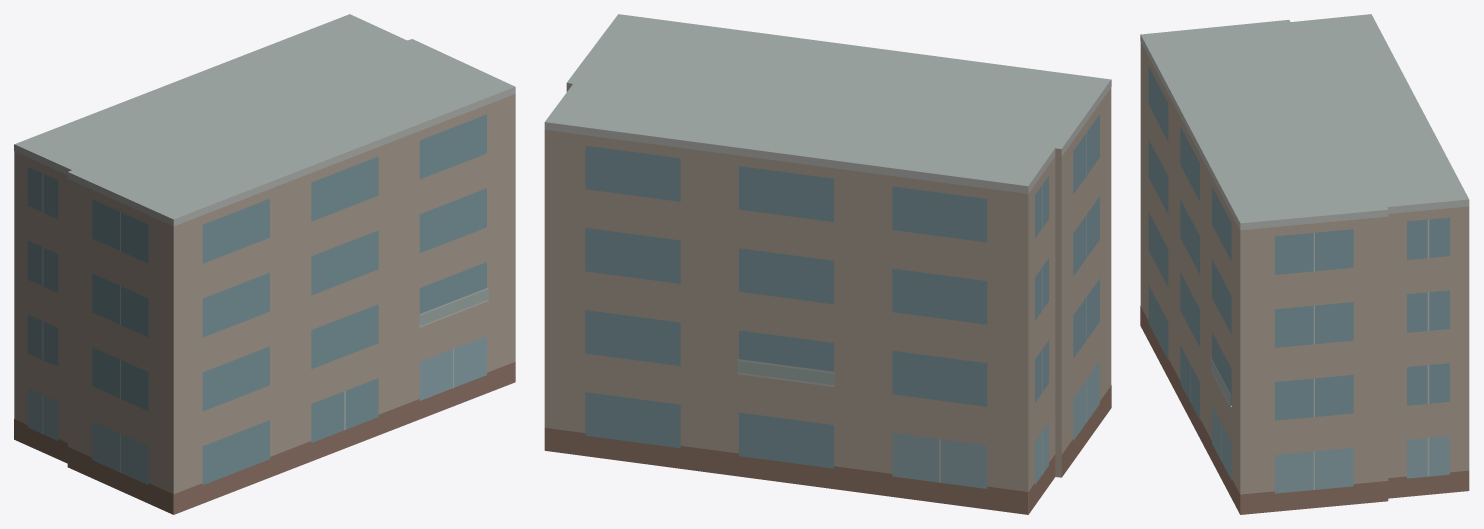
Rendered from survey-upis-32799914.glb.
3 renders of one model, left to right at view 1: azimuth 30°, elevation 25°; view 2: azimuth 150°, elevation 25°; view 3: azimuth 270°, elevation 25°, orthographic. The views are drawn at different scales.
Parts seen in each view (by area): view 1: survey-upis-32799914.tmp; view 2: survey-upis-32799914.tmp; view 3: survey-upis-32799914.tmp.
Part boxes in pixels (box(x1,y1,x2,y2)): survey-upis-32799914.tmp: box(14, 14, 515, 514); survey-upis-32799914.tmp: box(544, 14, 1111, 514); survey-upis-32799914.tmp: box(1140, 14, 1469, 514).
Size of the model in its own units: 16.04 by 10.4 by 10.64.
